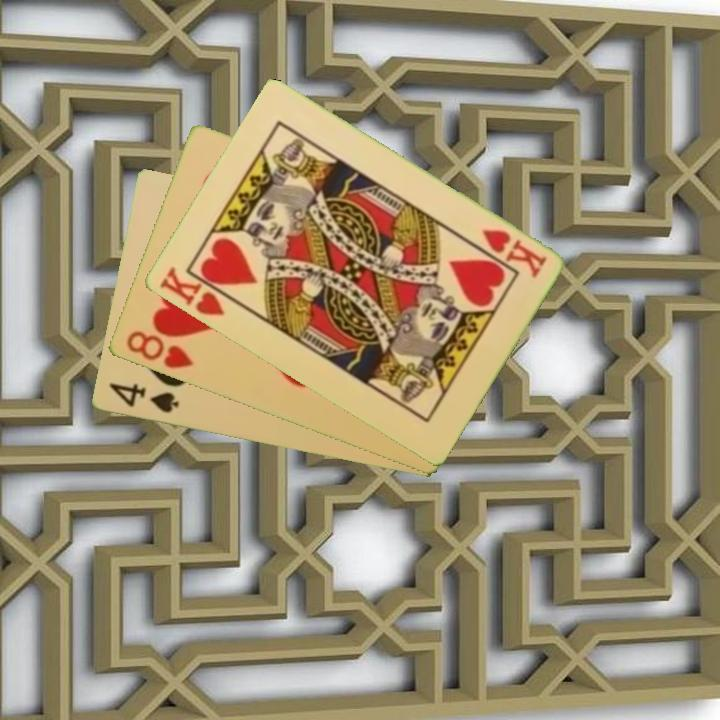4s: (105, 379, 181, 417)
8h: (122, 327, 196, 372)
Kh: (155, 263, 239, 319), (478, 225, 549, 281)
